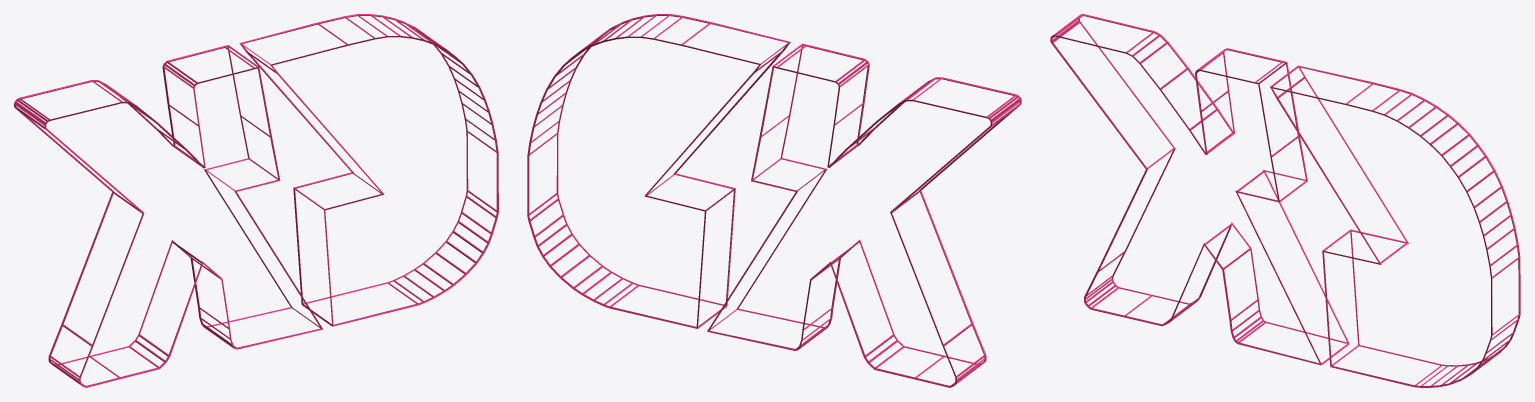
Rendered from lab_test.glb.
The picture shows the model from 3 angles, left to right: view 1: azimuth 30°, elevation 25°; view 2: azimuth 150°, elevation 25°; view 3: azimuth 330°, elevation 25°; orthographic projection. The views are drawn at different scales.
Visible parts, largest first — view 1: Plane.006, Plane.005; view 2: Plane.006, Plane.005; view 3: Plane.006, Plane.005.
Boxes of the visible parts, x1,y1,x2,y2 form: Plane.006: [14, 45, 323, 387]; Plane.005: [239, 14, 498, 326]; Plane.006: [707, 43, 1021, 387]; Plane.005: [527, 14, 790, 328]; Plane.006: [1050, 14, 1349, 365]; Plane.005: [1270, 65, 1520, 387].
Size of the model in its own units: 93.95 by 54.66 by 12.
